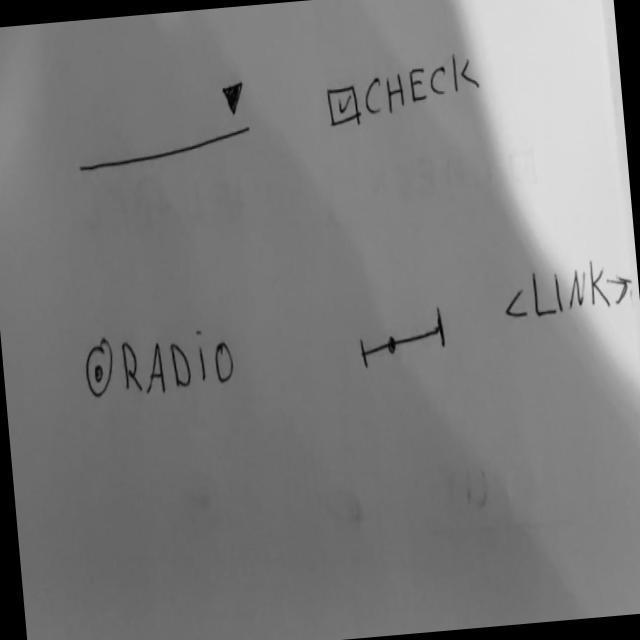checkbox: (323, 48, 487, 133)
link: (501, 257, 636, 325)
radio: (83, 323, 117, 403)
select: (70, 72, 256, 179)
slider: (357, 303, 452, 374)
